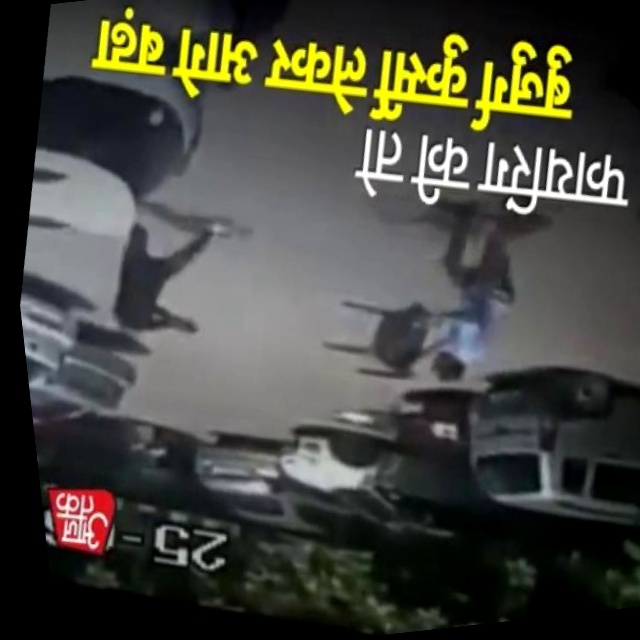gun: (172, 315, 208, 348)
